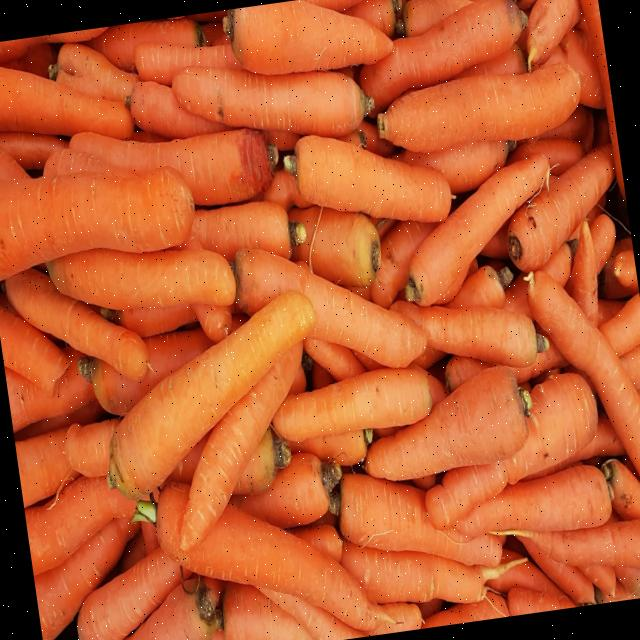carrot: (0, 19, 640, 640)
